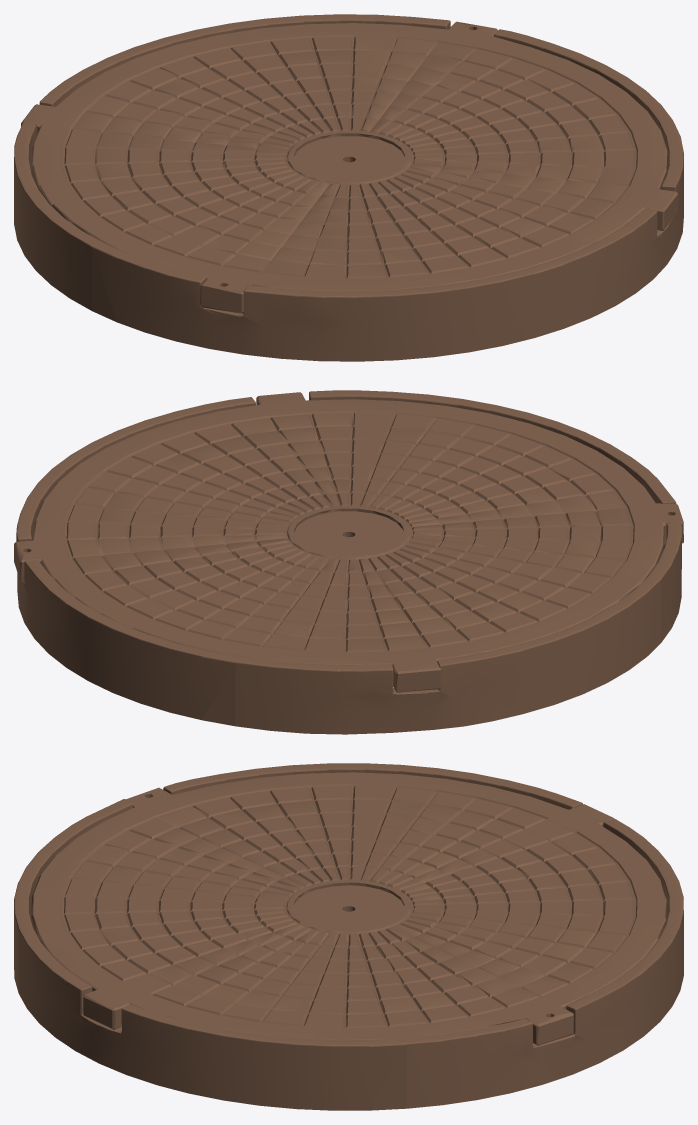
Rendered from tapita.fbx.
3 renders of one model, top to bottom at view 1: azimuth 30°, elevation 25°; view 2: azimuth 150°, elevation 25°; view 3: azimuth 270°, elevation 25°, orthographic.
Parts seen in each view (by area): view 1: manhole, ring; view 2: manhole, ring; view 3: manhole, ring.
Boxes of the visible parts, x1,y1,x2,y2 form: manhole: (21, 21, 677, 313); ring: (14, 14, 683, 361); manhole: (14, 392, 683, 692); ring: (16, 390, 682, 734); manhole: (31, 772, 666, 1045); ring: (14, 763, 683, 1110).
Bounding box in the file's own units: 35.89 × 3.84 × 35.89.
